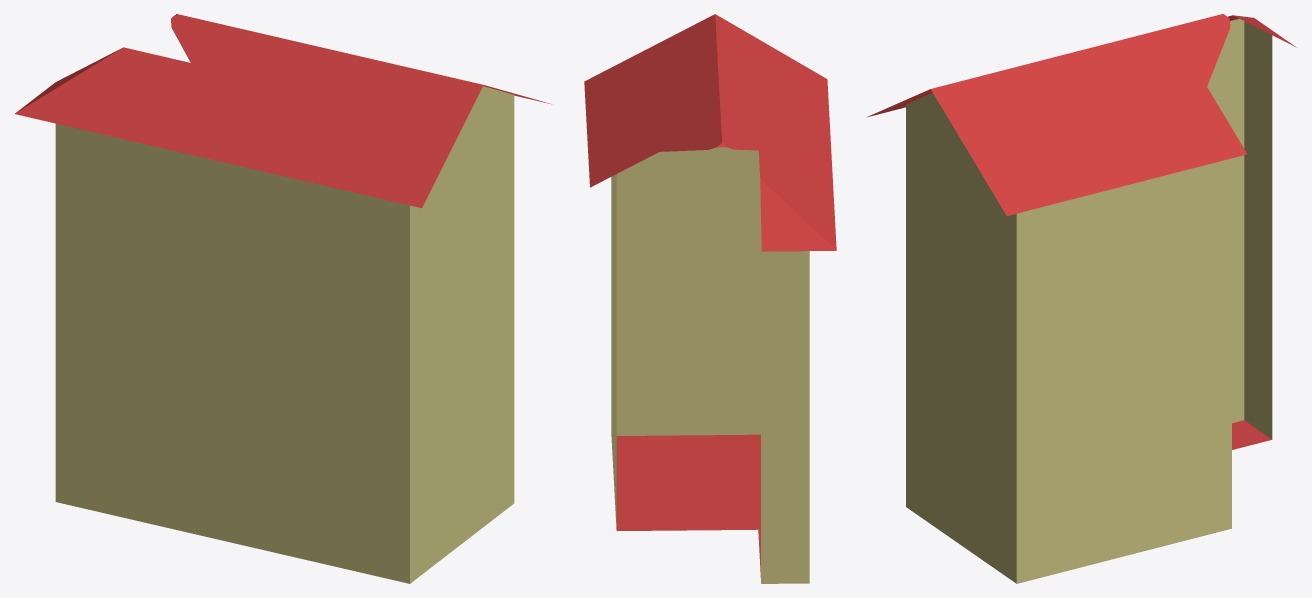
3 renders of one model, left to right at view 1: azimuth 30°, elevation 25°; view 2: azimuth 150°, elevation 25°; view 3: azimuth 270°, elevation 25°, orthographic. The views are drawn at different scales.
Size of the model in its own units: 11.82 by 10.9 by 12.77.
